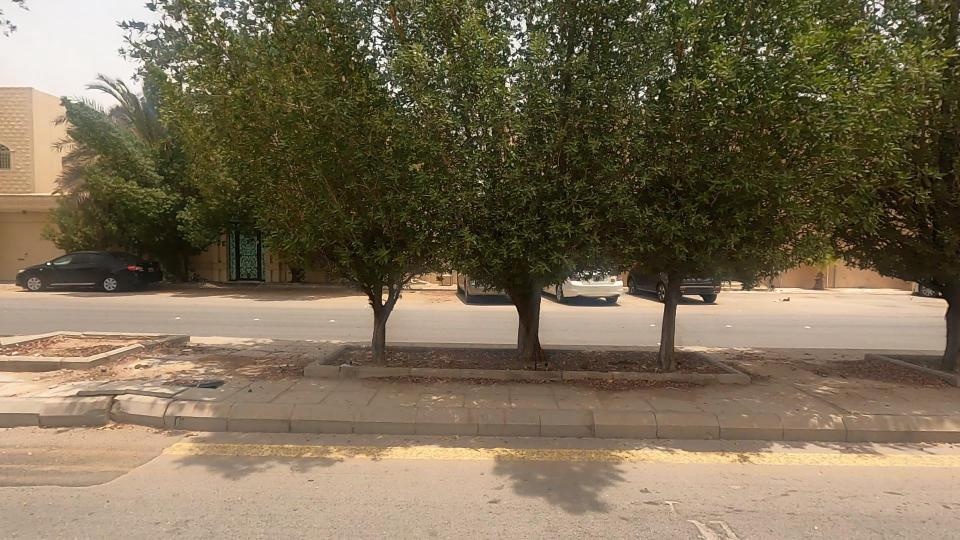CLUTTER_SIDEWALK: (0, 294, 196, 395)
